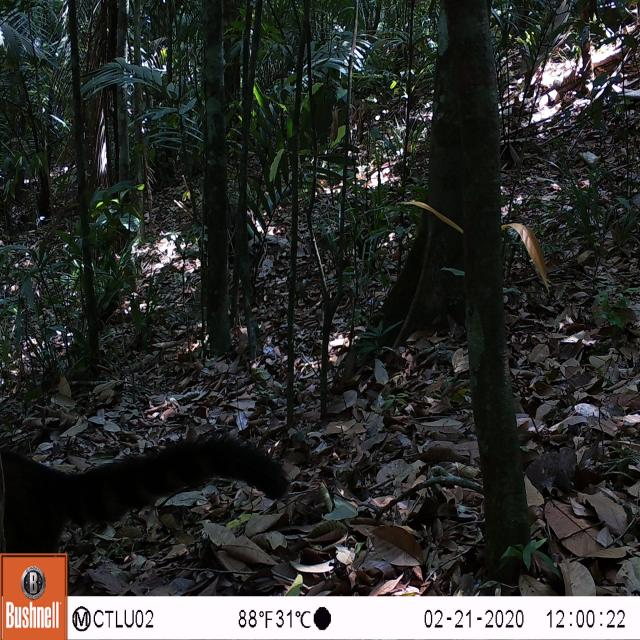South American Coati: (0, 426, 294, 554)
